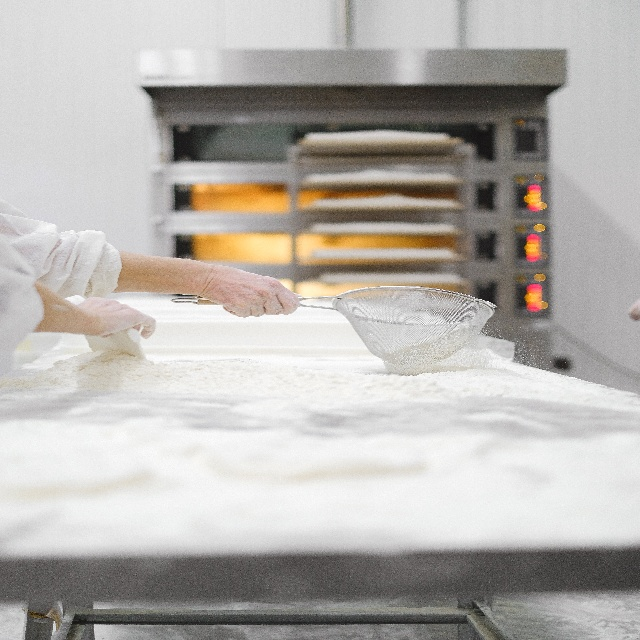Sin_guantes: (208, 263, 300, 319), (77, 294, 156, 343)
